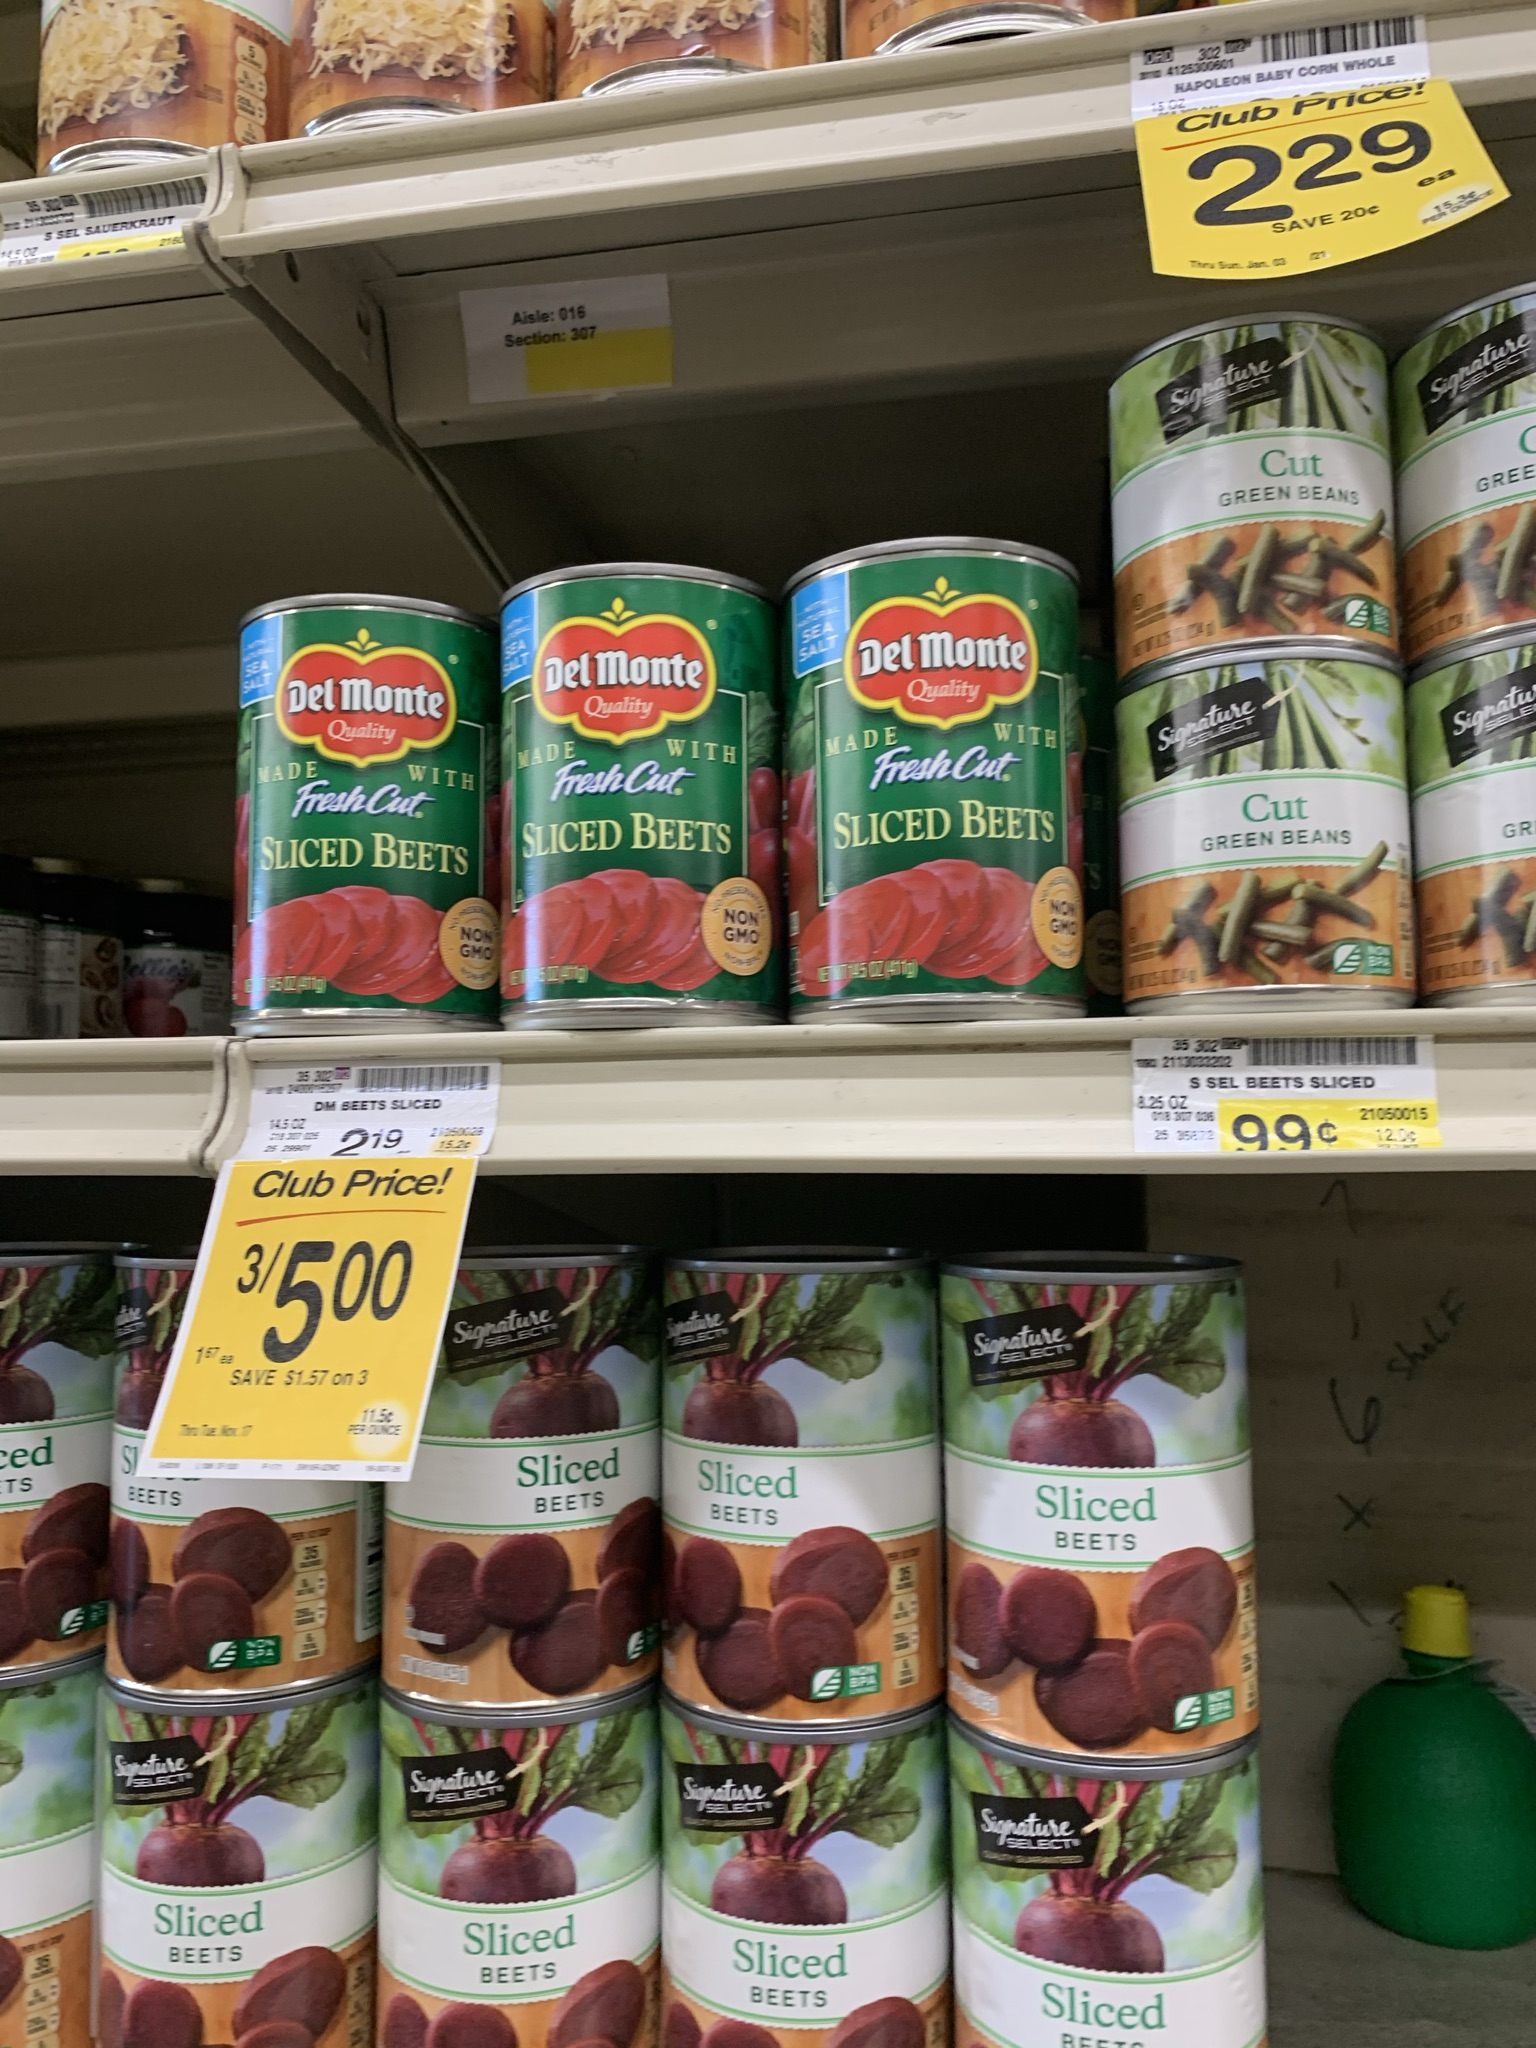can: (942, 1269, 1260, 1756), (786, 539, 1092, 1026), (497, 563, 781, 1039), (658, 1250, 942, 1721), (379, 1248, 652, 1705), (227, 589, 490, 1034), (1113, 643, 1417, 1013), (89, 1688, 373, 2048), (942, 1743, 1267, 2048), (374, 1705, 658, 2046), (1108, 311, 1396, 642), (660, 1722, 950, 2048)
